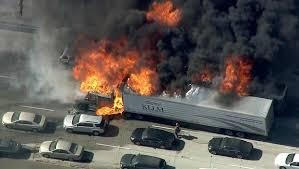fire: (73, 36, 166, 118), (210, 56, 254, 97)
